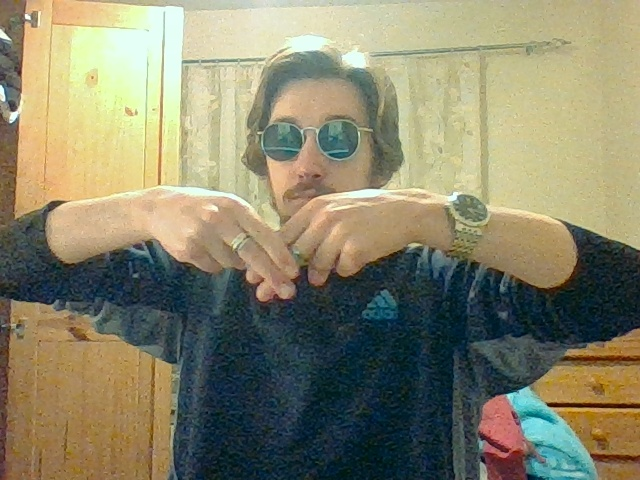father: (228, 192, 344, 303)
